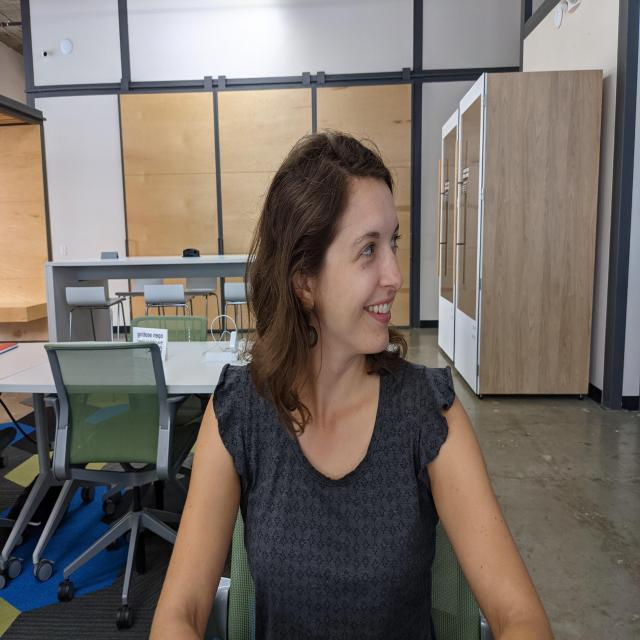face: (300, 193, 406, 357)
